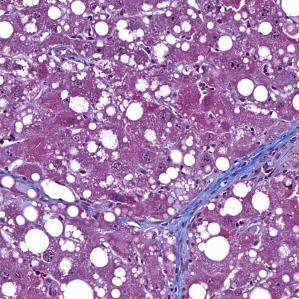fibrosis: (155, 196, 205, 285), (238, 132, 299, 178)
